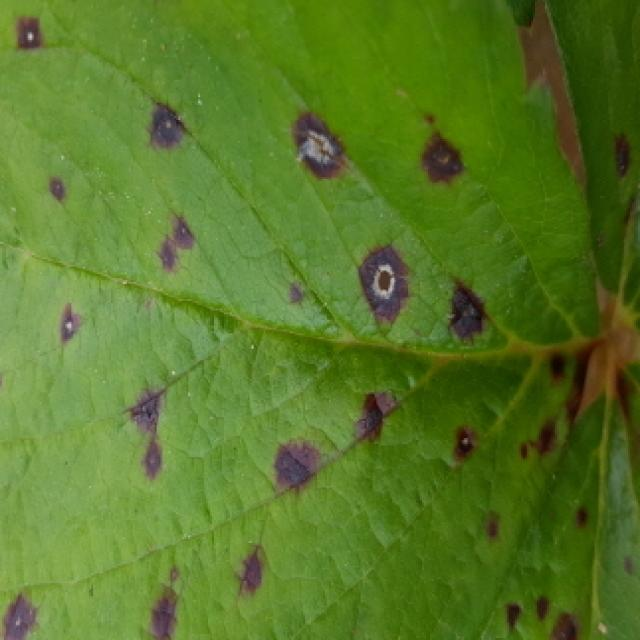Leaf Spot: (477, 367, 640, 640), (541, 0, 640, 339)
